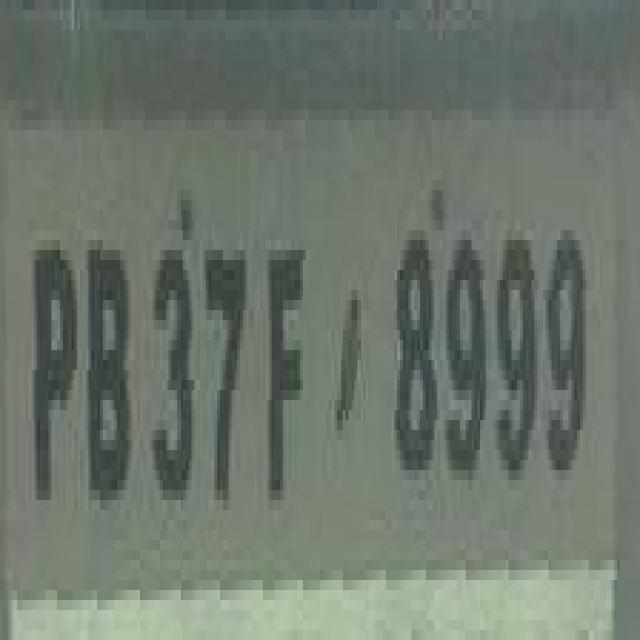license_plate: (17, 100, 640, 590)
